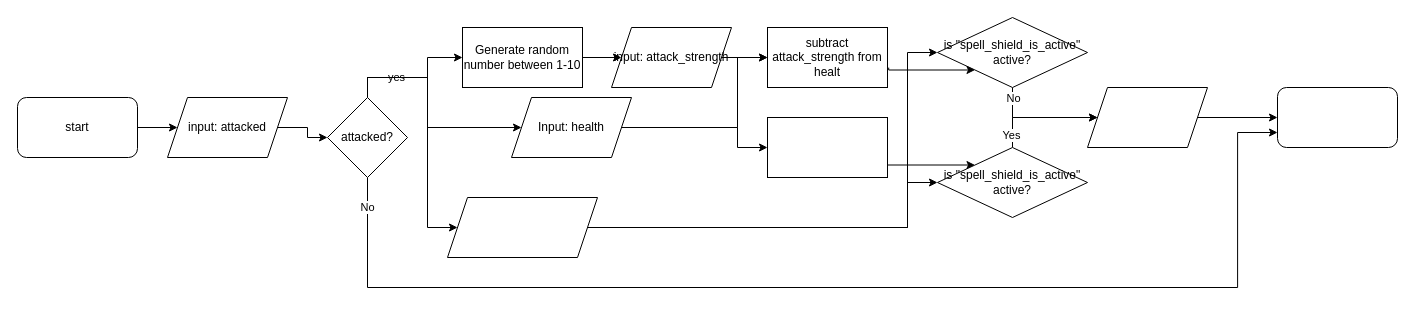
This 1415x313 diagram has some shape labels left out. The centre of each missing label's shape, as x and y in pixels:
"End" goes at pixel 1337 117.
"Input: spell_sheild_is_active" goes at pixel 522 227.
"Output: health" goes at pixel 1147 117.
"subtrack half of attackstrength from health" goes at pixel 827 147.
